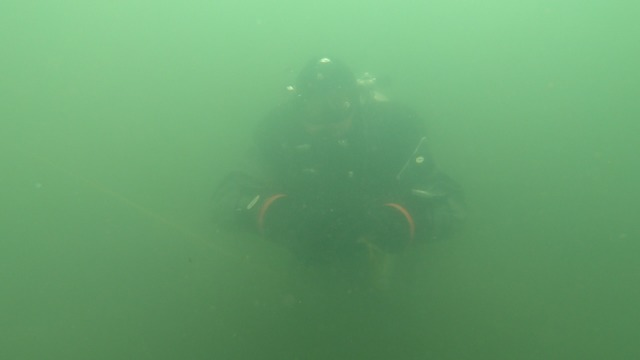Diver: (205, 37, 499, 316)
Hand: (350, 182, 454, 270), (218, 172, 322, 255)
Head: (272, 49, 388, 162)
